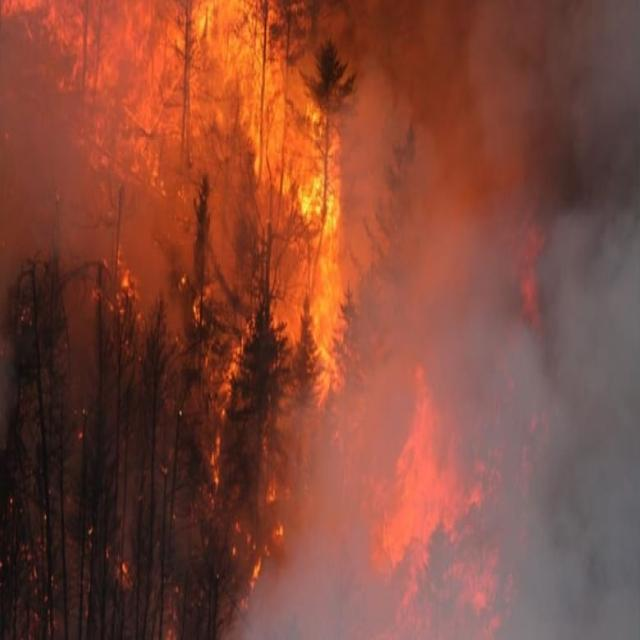fire: (3, 1, 350, 417), (373, 334, 522, 640), (200, 441, 300, 635), (99, 528, 138, 602)
